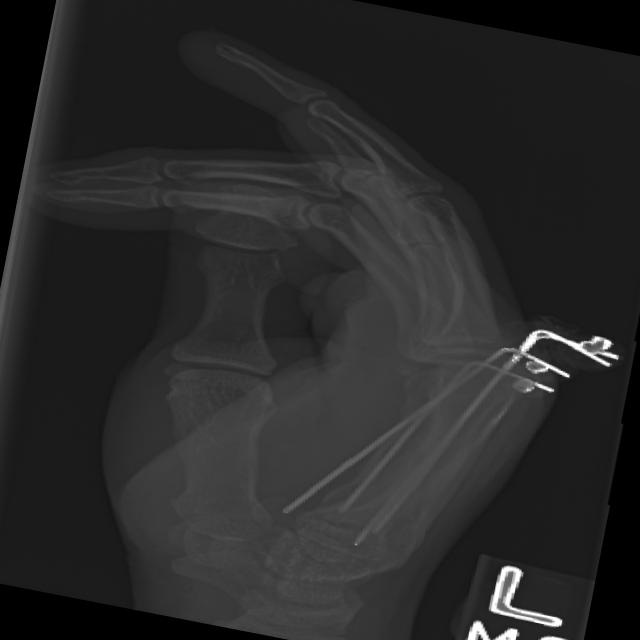fingers positive: (417, 425, 499, 475)
